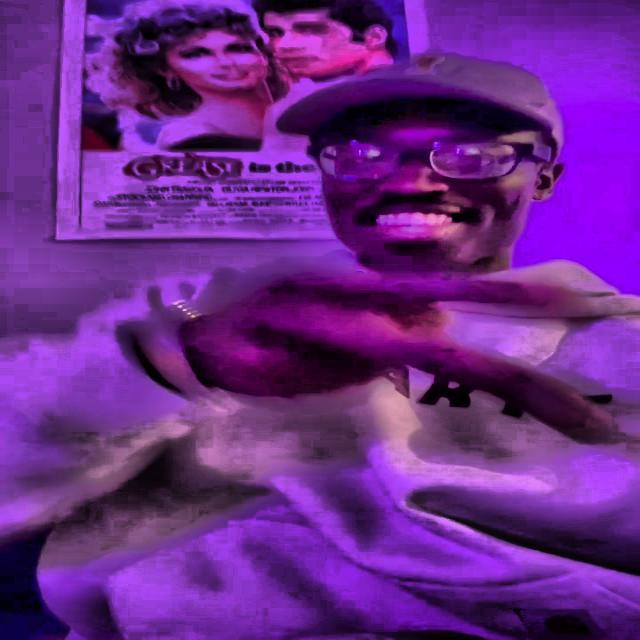not-gloved: (160, 261, 609, 438)
